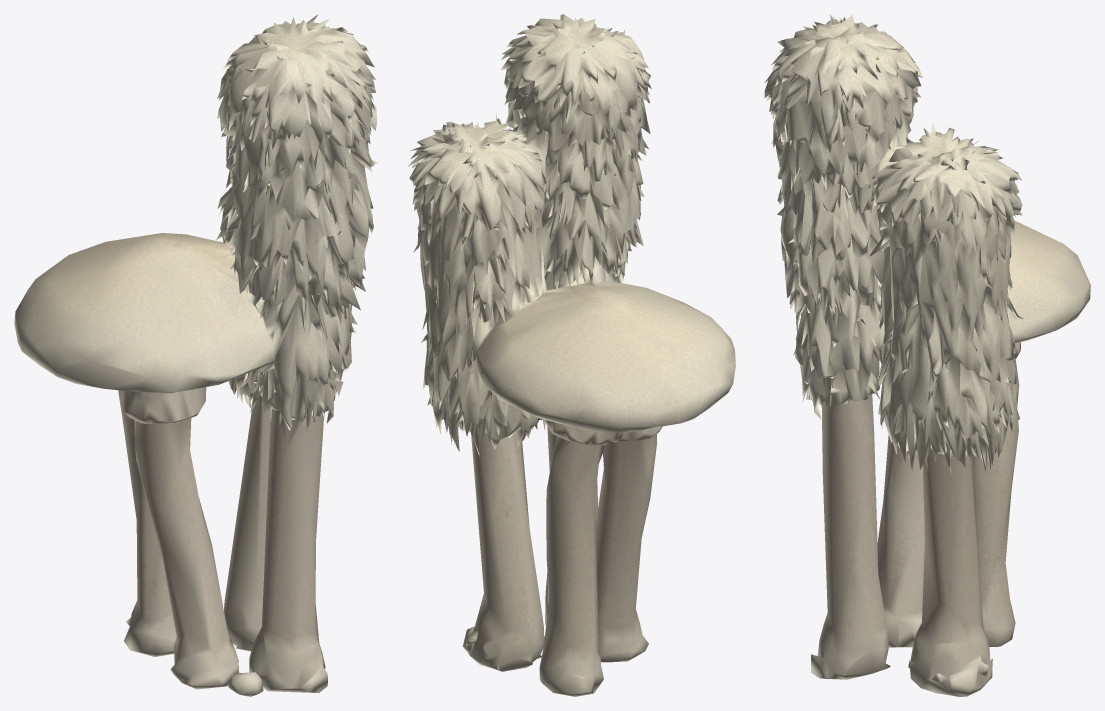
File: mushroom_tintenpilz.glb
3 renders of one model, left to right at view 1: azimuth 30°, elevation 25°; view 2: azimuth 150°, elevation 25°; view 3: azimuth 270°, elevation 25°, orthographic. The views are drawn at different scales.
Parts seen in each view (by area): view 1: mushroom_tintenpilz_0; view 2: mushroom_tintenpilz_0; view 3: mushroom_tintenpilz_0.
Part boxes in pixels (x1,y1,x2,y2): mushroom_tintenpilz_0: [14, 14, 377, 696]; mushroom_tintenpilz_0: [407, 14, 735, 696]; mushroom_tintenpilz_0: [764, 14, 1090, 696].
Size of the model in its own units: 0.2414 by 0.46 by 0.208.
1 material, 1 textured.
